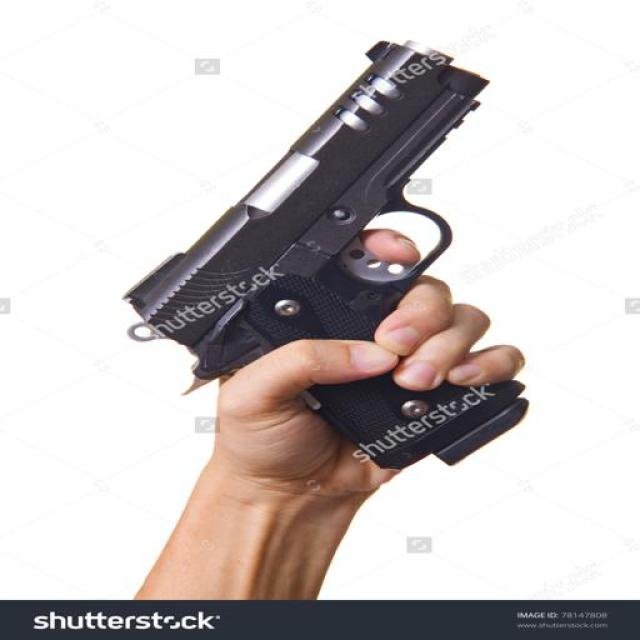pistol: (125, 40, 529, 464)
